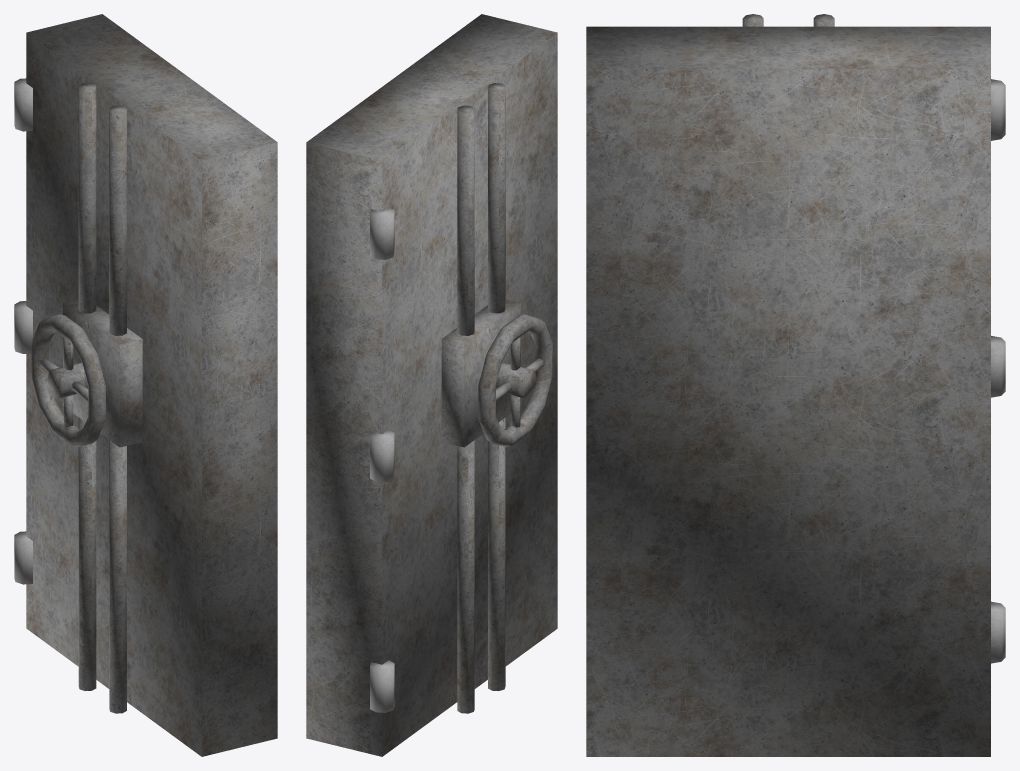
The model's file is VaultDoor.fbx.
The picture shows the model from 3 angles, left to right: view 1: azimuth 30°, elevation 25°; view 2: azimuth 150°, elevation 25°; view 3: azimuth 270°, elevation 25°; orthographic projection. The views are drawn at different scales.
Visible parts, largest first — view 1: VaultDoor; view 2: VaultDoor; view 3: VaultDoor.
Boxes of the visible parts, left/top/right/bottom form: VaultDoor: left=14, top=14, right=277, bottom=756; VaultDoor: left=306, top=14, right=557, bottom=756; VaultDoor: left=586, top=14, right=1005, bottom=756.
Bounding box in the file's own units: 0.3554 × 1.51 × 0.829.
